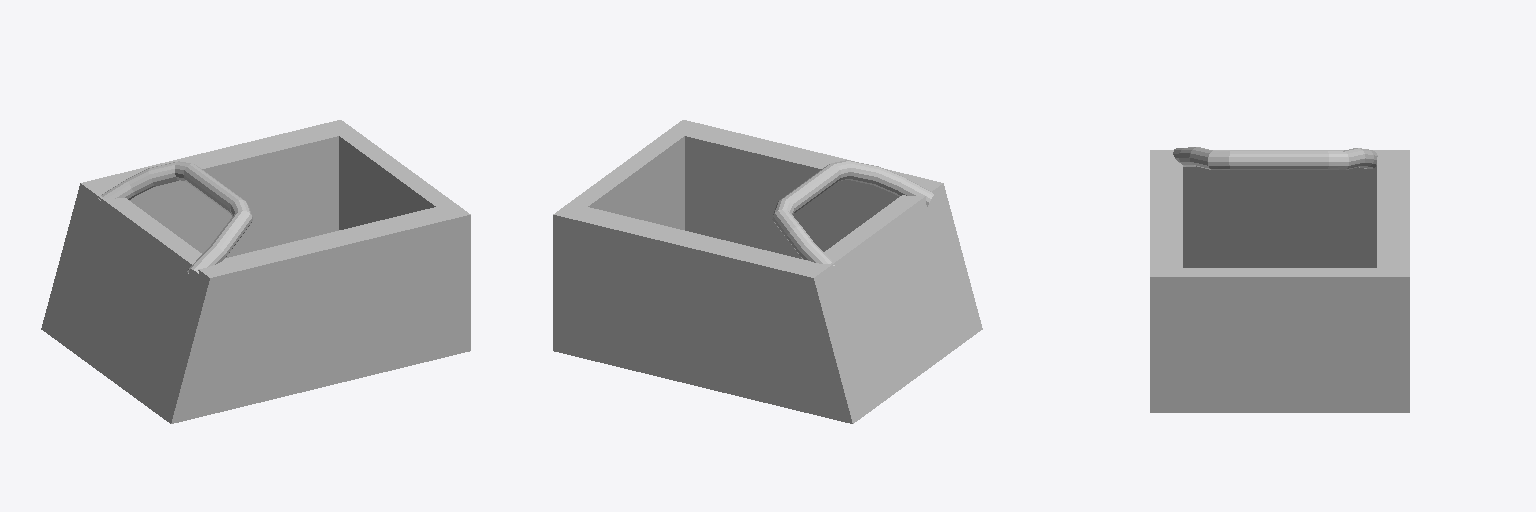
Rendered from rollercoaster.obj.
3 views of the same model, side by side, from view 1: azimuth 30°, elevation 25°; view 2: azimuth 150°, elevation 25°; view 3: azimuth 270°, elevation 25° (orthographic).
Parts seen in each view (by area): view 1: Cube, Plane; view 2: Cube, Plane; view 3: Cube, Plane.
Part boxes in pixels (x1,y1,x2,y2): Cube: (41,120,470,423); Plane: (98,161,252,273); Cube: (553,120,982,423); Plane: (772,160,933,265); Cube: (1150,150,1409,412); Plane: (1173,147,1377,169).
Bounding box in the file's own units: 4.59 × 2.47 × 3.45.